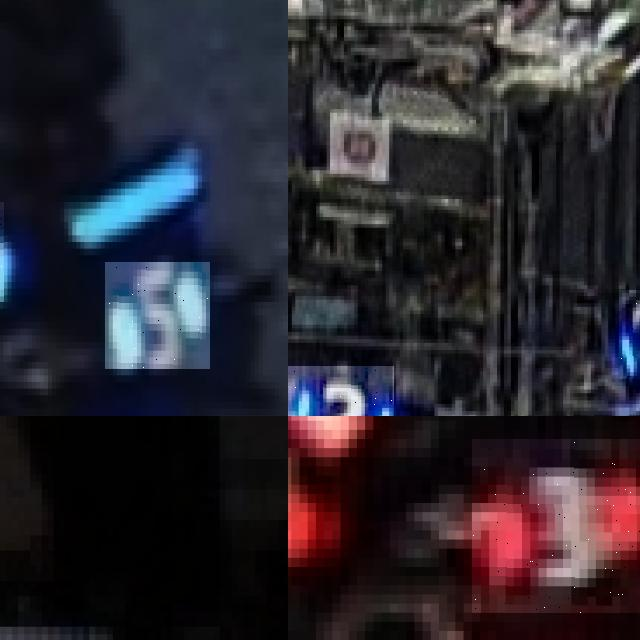B2: (288, 366, 394, 416), (619, 290, 640, 380)
B5: (105, 262, 210, 369)
R3: (472, 439, 640, 612)
